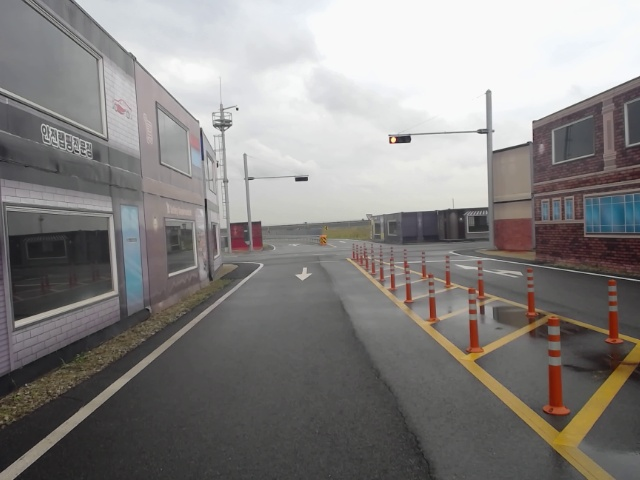red_3: (388, 134, 412, 144)
